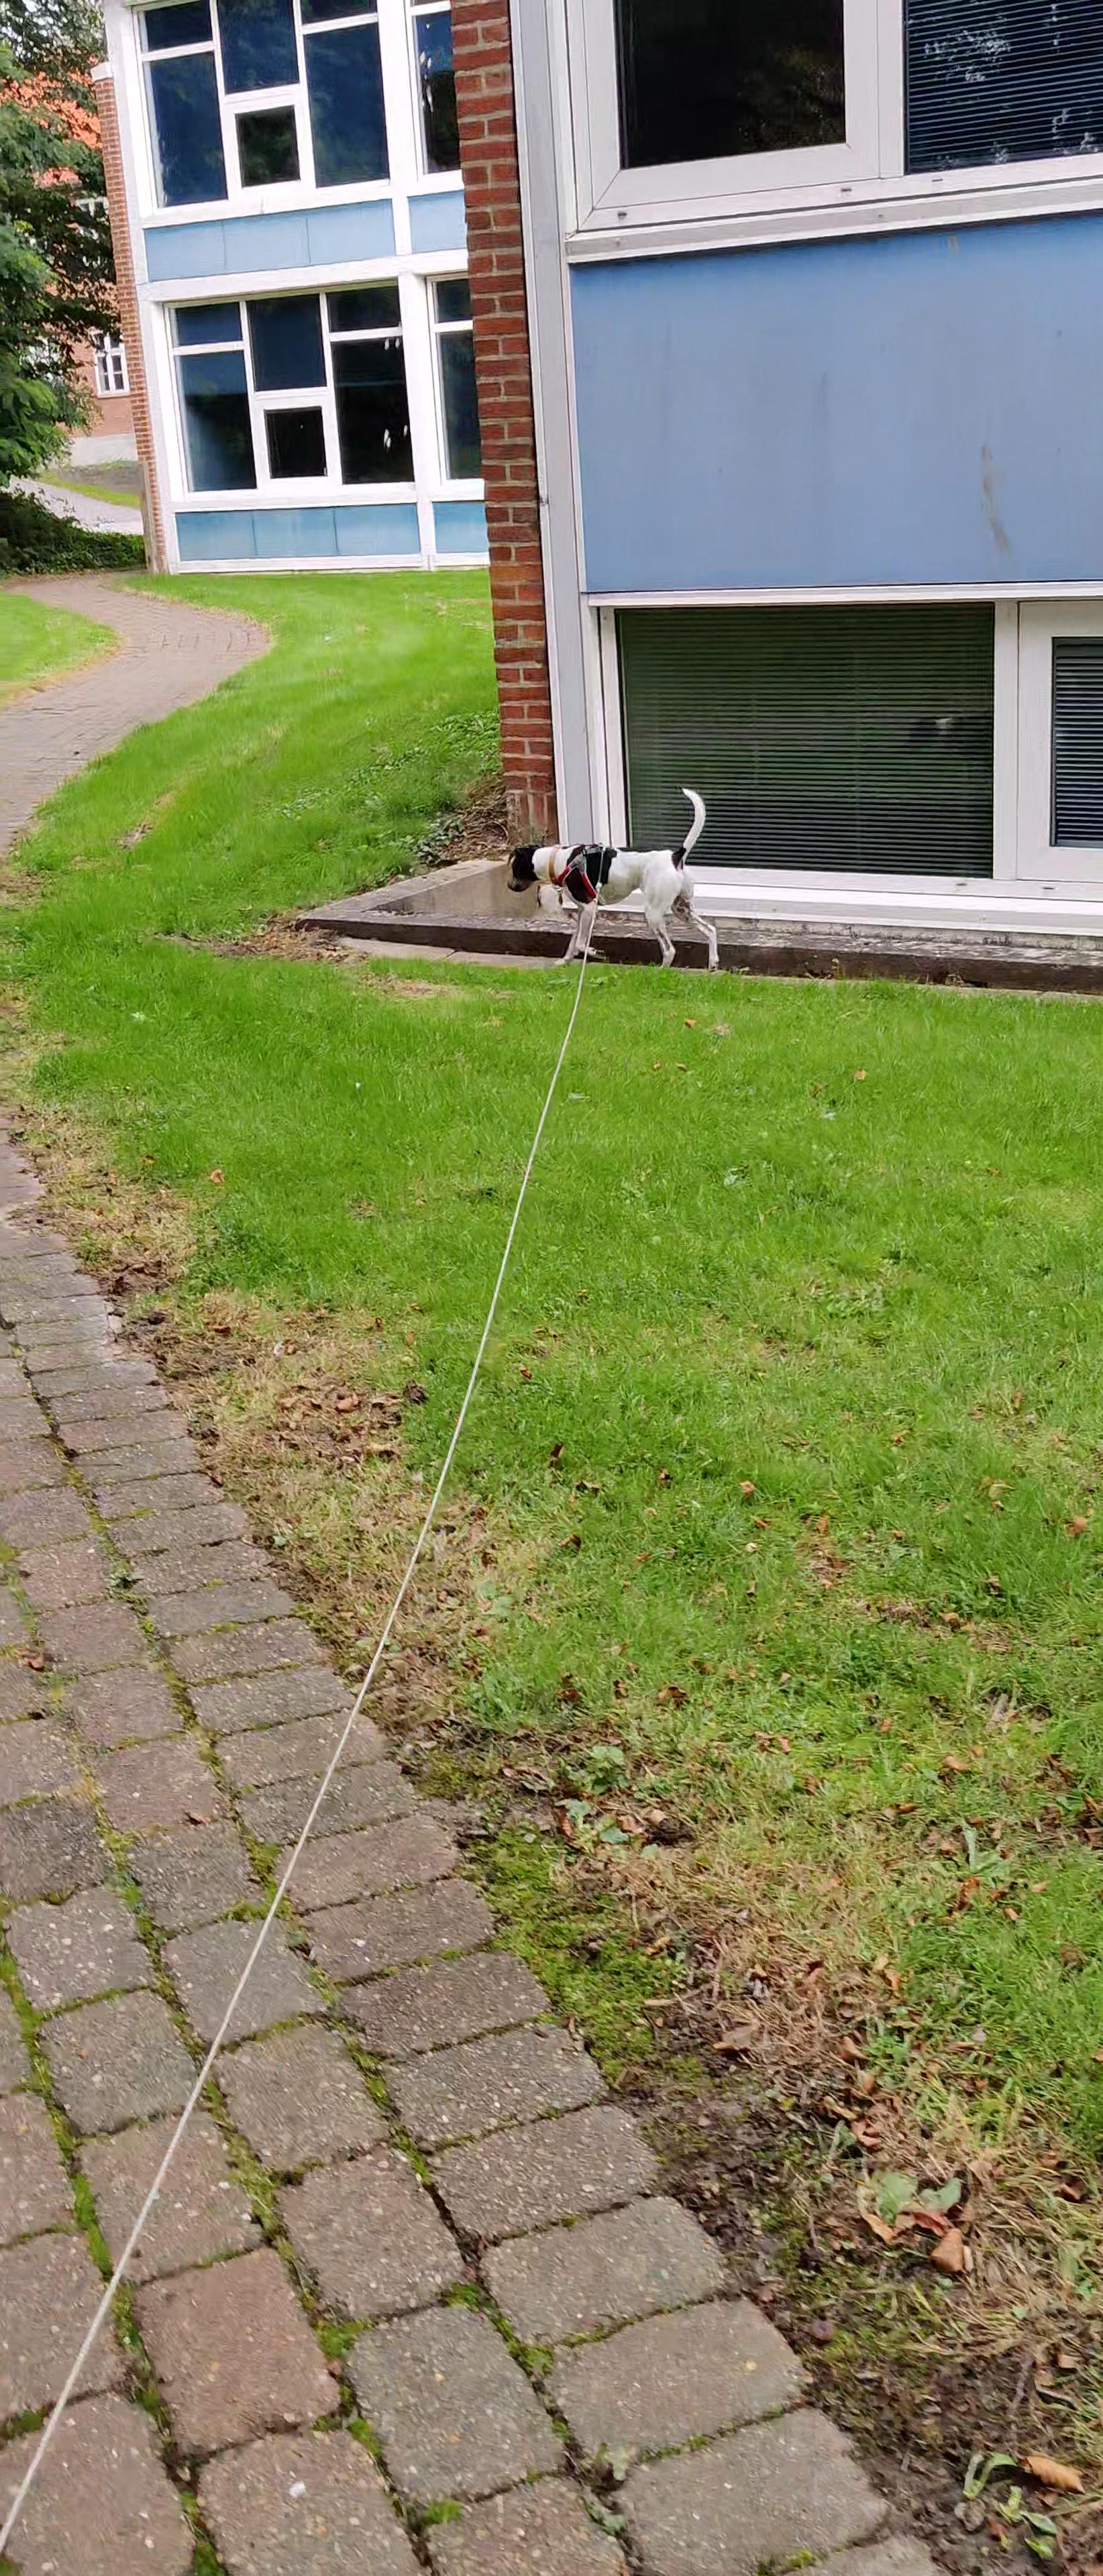Dog: (482, 777, 738, 987)
